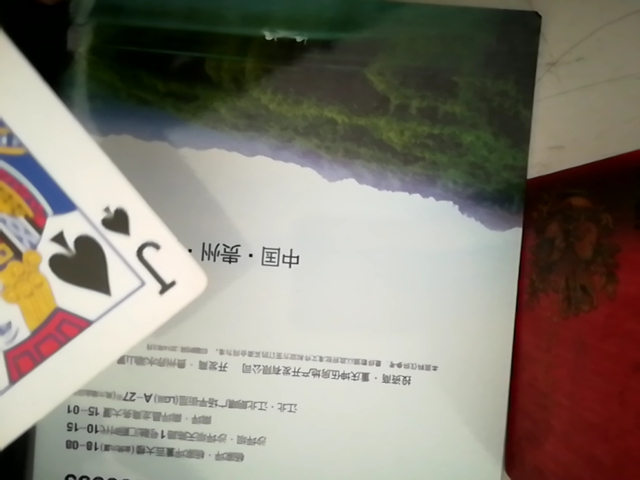ht j: (0, 6, 204, 464)
